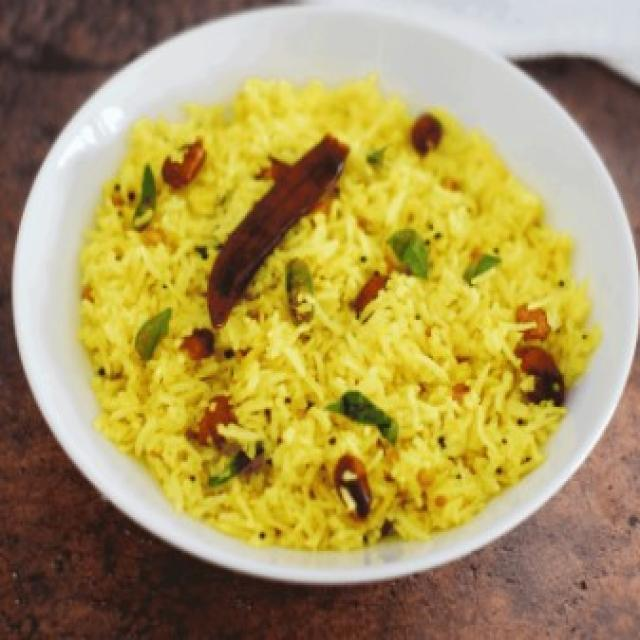lemon satham: (75, 74, 606, 555)
